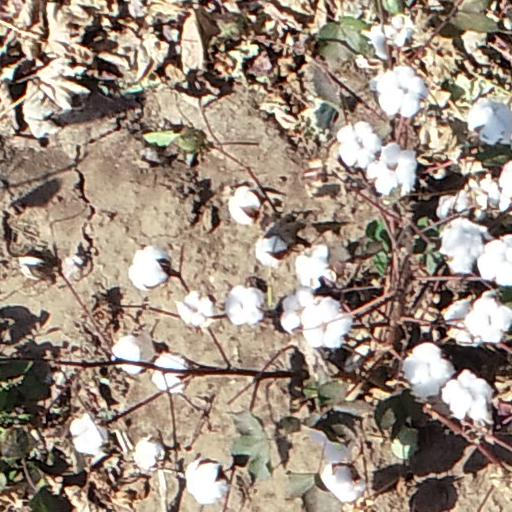Boll: (443, 369, 493, 423), (406, 342, 451, 396), (370, 144, 417, 194), (303, 298, 350, 347), (444, 220, 483, 278), (466, 296, 511, 344), (378, 69, 423, 117), (468, 97, 512, 146), (184, 459, 231, 504), (128, 246, 172, 292), (323, 455, 365, 502), (336, 122, 376, 170), (293, 246, 335, 289), (112, 332, 154, 373), (281, 288, 316, 336), (226, 285, 264, 327), (443, 300, 478, 344), (69, 417, 108, 455), (155, 352, 190, 393), (229, 187, 266, 225), (481, 235, 512, 277), (177, 291, 211, 326), (256, 233, 289, 268), (136, 436, 166, 470), (18, 252, 53, 281), (438, 190, 473, 218), (470, 177, 499, 210), (384, 19, 411, 44)
